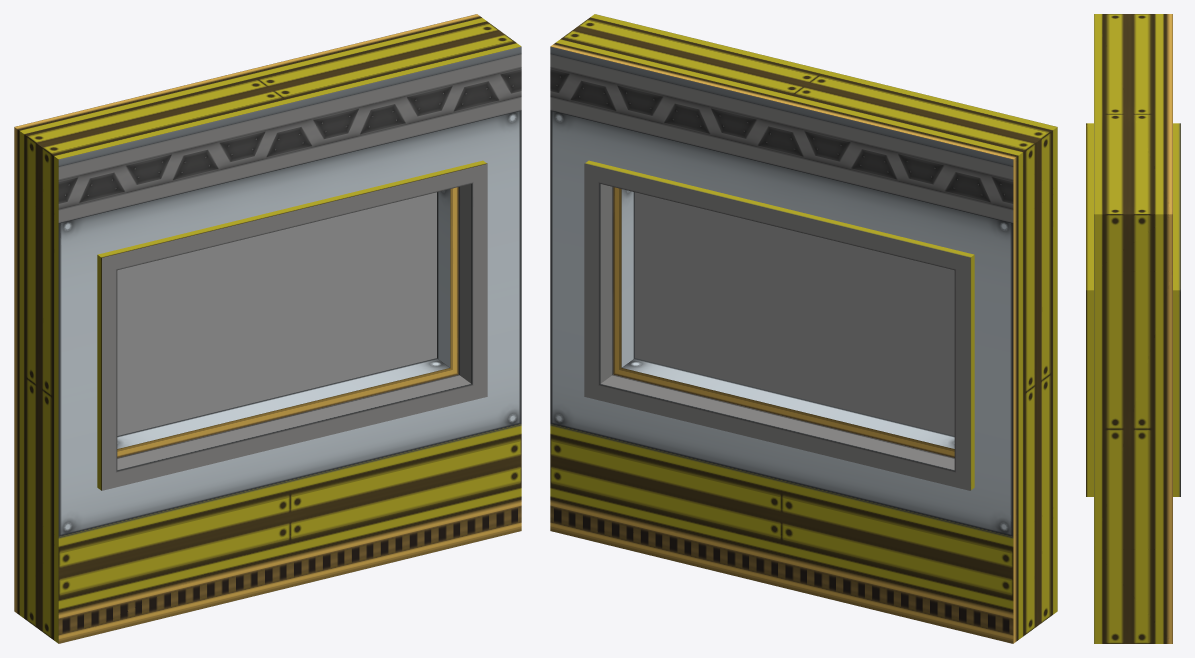
File: SM_Env_Shared_01_Wall_02.fbx
The picture shows the model from 3 angles, left to right: view 1: azimuth 30°, elevation 25°; view 2: azimuth 150°, elevation 25°; view 3: azimuth 270°, elevation 25°; orthographic projection. The views are drawn at different scales.
Parts seen in each view (by area): view 1: SM_Env_Shared_01_Wall_02; view 2: SM_Env_Shared_01_Wall_02; view 3: SM_Env_Shared_01_Wall_02.
Part boxes in pixels (x1,y1,x2,y2): SM_Env_Shared_01_Wall_02: (14,14,521,643); SM_Env_Shared_01_Wall_02: (550,14,1057,643); SM_Env_Shared_01_Wall_02: (1086,14,1180,643).
Size of the model in its own units: 300 by 300 by 60.
2 materials, 1 textured.
